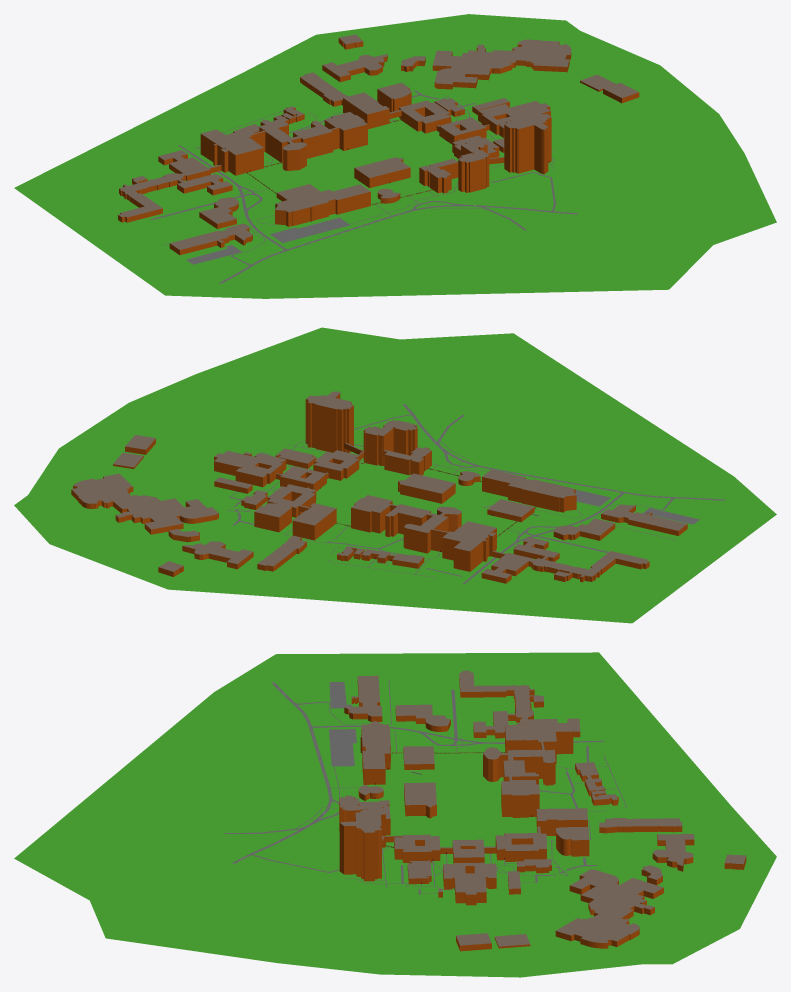
The model's file is BuschCampus.fbx.
3 renders of one model, top to bottom at view 1: azimuth 30°, elevation 25°; view 2: azimuth 150°, elevation 25°; view 3: azimuth 270°, elevation 25°, orthographic. The views are drawn at different scales.
Visible parts, largest first — view 1: Plane, Plane.001, Building Nelson Biology Laboratories, Building School Of Engineering Building.001, Building Busch Student Center, Building Wright Rieman Laboratories.004, Building Busch Dining Hall, Building Psychology Building, Building Richard Weeks Hall of Engineering, Building T. Alexander Pond Science And Engineering Resource., Building Physics And Astronomy Building.002, Building Life Sciences Building.003 (+16 smaller); view 2: Plane, Plane.001, Building School Of Engineering Building.001, Building Nelson Biology Laboratories, Building Busch Student Center, Building Wright Rieman Laboratories.004, Building Busch Dining Hall, Building Psychology Building, Building Richard Weeks Hall of Engineering, Building Life Sciences Building.003, Building T. Alexander Pond Science And Engineering Resource., Building Allison Road Classroom Building (+15 smaller); view 3: Plane, Plane.001, Building School Of Engineering Building.001, Building Busch Student Center, Building Nelson Biology Laboratories, Building Wright Rieman Laboratories.004, Building Busch Dining Hall, Building Psychology Building, Building Biomedical Engineering Building, Building Richard Weeks Hall of Engineering, Building Life Sciences Building.003, Building School Of Engineering Building (+15 smaller).
Part boxes in pixels (x1,y1,x2,y2): Plane: (14, 14, 776, 298); Plane.001: (246, 120, 458, 205); Building Nelson Biology Laboratories: (118, 150, 232, 222); Building School Of Engineering Building.001: (399, 100, 550, 157); Building Busch Student Center: (432, 44, 516, 89); Building Wright Rieman Laboratories.004: (259, 112, 367, 155); Building Busch Dining Hall: (503, 39, 571, 72); Building Psychology Building: (169, 223, 252, 255); Building Richard Weeks Hall of Engineering: (322, 54, 387, 82); Building T. Alexander Pond Science And Engineering Resource.: (354, 157, 410, 183); Building Physics And Astronomy Building.002: (275, 193, 328, 217); Building Life Sciences Building.003: (200, 129, 266, 151); Plane: (14, 327, 776, 623); Plane.001: (316, 463, 536, 537); Building School Of Engineering Building.001: (214, 450, 359, 512); Building Nelson Biology Laboratories: (481, 537, 649, 583); Building Busch Student Center: (112, 495, 218, 534); Building Wright Rieman Laboratories.004: (351, 495, 461, 538); Building Busch Dining Hall: (71, 473, 141, 508); Building Psychology Building: (601, 504, 687, 535); Building Richard Weeks Hall of Engineering: (182, 541, 253, 569); Building Life Sciences Building.003: (431, 527, 489, 556); Building T. Alexander Pond Science And Engineering Resource.: (398, 473, 455, 498); Building Allison Road Classroom Building: (553, 518, 615, 540); Plane: (14, 652, 776, 977); Plane.001: (365, 753, 536, 847); Building School Of Engineering Building.001: (394, 833, 546, 900); Building Busch Student Center: (569, 869, 663, 919); Building Nelson Biology Laboratories: (459, 670, 580, 738); Building Wright Rieman Laboratories.004: (483, 747, 555, 800); Building Busch Dining Hall: (555, 909, 639, 948); Building Psychology Building: (344, 675, 382, 721); Building Biomedical Engineering Building: (599, 818, 682, 833); Building Richard Weeks Hall of Engineering: (652, 834, 694, 871); Building Life Sciences Building.003: (523, 722, 573, 750); Building School Of Engineering Building: (394, 842, 546, 905).
Size of the model in its own units: 9996 by 699 by 9915.
